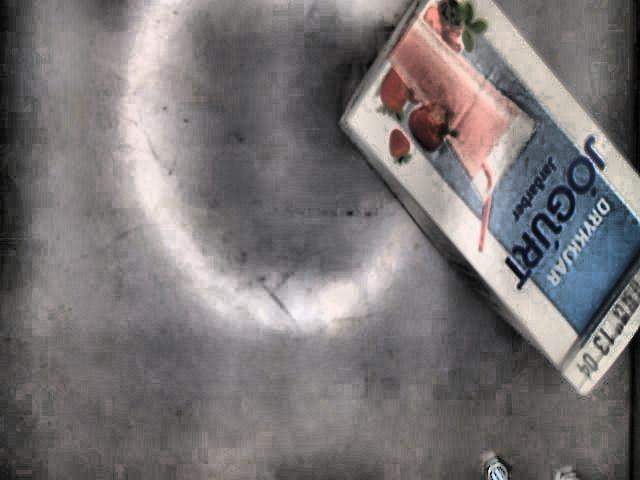Paper: (337, 0, 640, 395)
